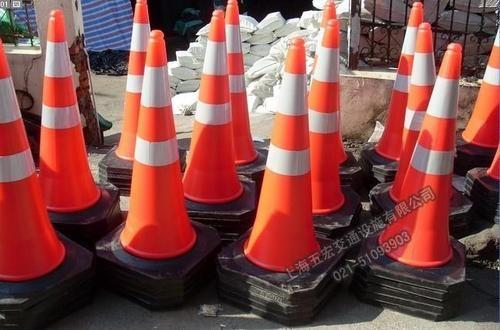cone_barrel: (375, 41, 461, 271), (240, 39, 321, 281), (116, 31, 198, 267), (31, 22, 104, 233), (181, 13, 247, 208), (301, 6, 354, 219), (372, 1, 421, 156), (111, 1, 149, 161), (459, 27, 499, 147)
